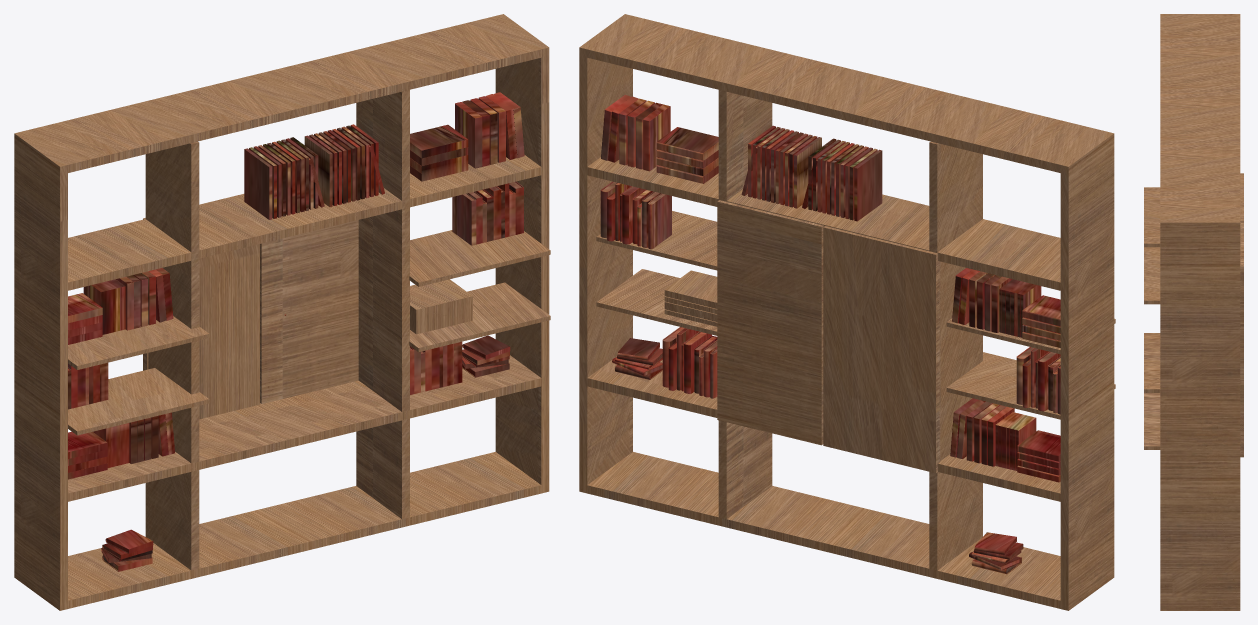
Rendered from librero.fbx.
The picture shows the model from 3 angles, left to right: view 1: azimuth 30°, elevation 25°; view 2: azimuth 150°, elevation 25°; view 3: azimuth 270°, elevation 25°; orthographic projection. The views are drawn at different scales.
Visible parts, largest first — view 1: books_obj_70; view 2: books_obj_70; view 3: books_obj_70.
Boxes of the visible parts, bbox=[...] form: books_obj_70: bbox=[14, 14, 550, 610]; books_obj_70: bbox=[579, 14, 1115, 610]; books_obj_70: bbox=[1144, 14, 1243, 610].
Size of the model in its own units: 9728 by 8438 by 1965.
Materials: 7 (7 with a texture image).
